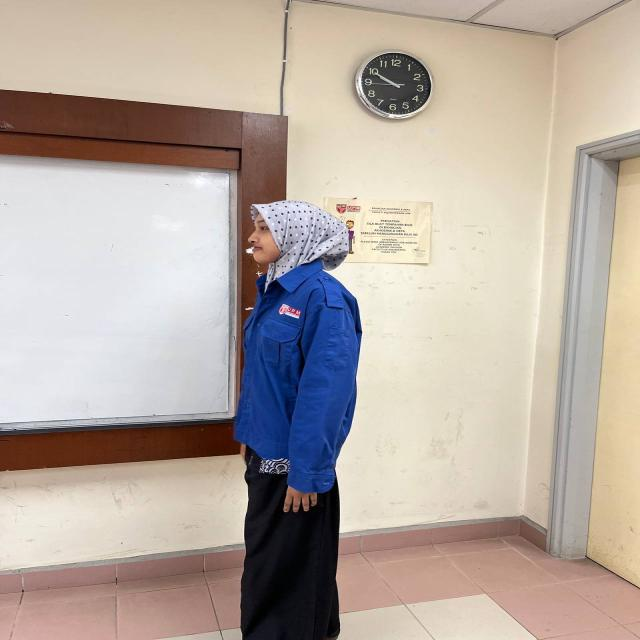person_with_labcoat: (234, 201, 361, 640)
